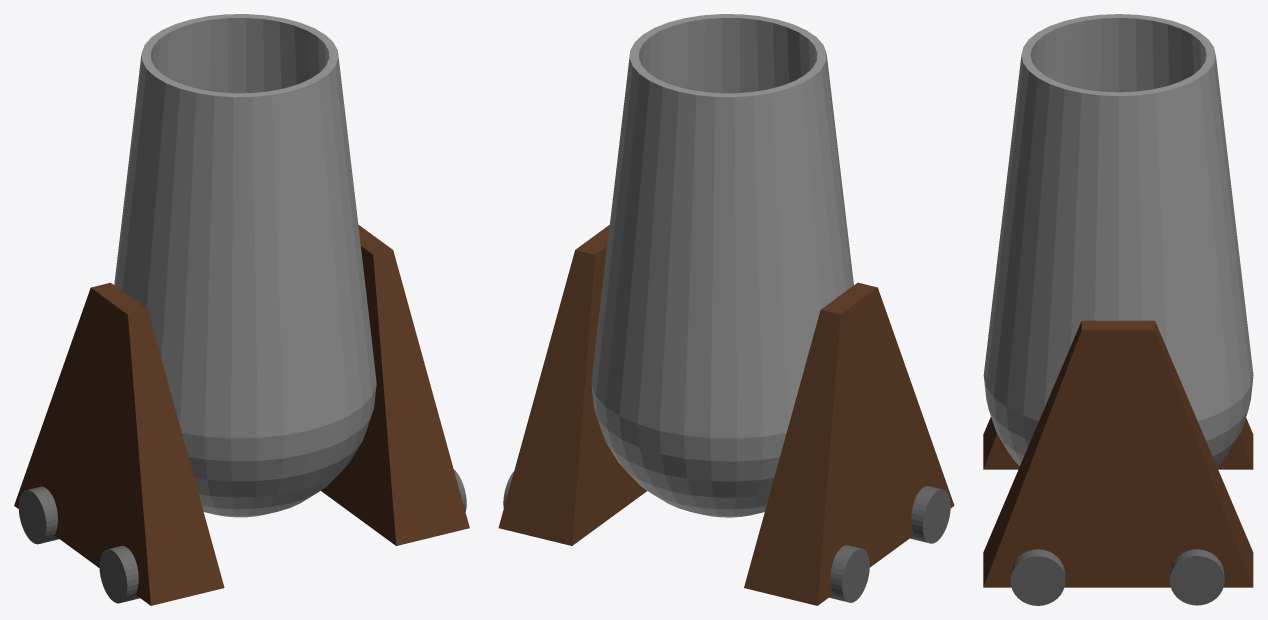
File: Mortaio.fbx
3 renders of one model, left to right at view 1: azimuth 30°, elevation 25°; view 2: azimuth 150°, elevation 25°; view 3: azimuth 270°, elevation 25°, orthographic.
Visible parts, largest first — view 1: Sfera, Cubo, Cubo.001, Cilindro, Cilindro.001; view 2: Sfera, Cubo, Cubo.001, Cilindro.001, Cilindro; view 3: Sfera, Cubo.001, Cilindro.003, Cilindro.002, Cubo.
Boxes of the visible parts, bbox=[...] form: Sfera: bbox=[114, 14, 376, 517]; Cubo: bbox=[14, 282, 224, 605]; Cubo.001: bbox=[321, 225, 469, 545]; Cilindro: bbox=[99, 546, 139, 603]; Cilindro.001: bbox=[18, 486, 59, 544]; Sfera: bbox=[591, 14, 853, 517]; Cubo: bbox=[744, 282, 954, 605]; Cubo.001: bbox=[498, 225, 646, 545]; Cilindro.001: bbox=[829, 545, 869, 602]; Cilindro: bbox=[910, 486, 950, 543]; Sfera: bbox=[983, 14, 1253, 466]; Cubo.001: bbox=[983, 320, 1253, 587]; Cilindro.003: bbox=[1010, 549, 1065, 605]; Cilindro.002: bbox=[1169, 549, 1224, 605]; Cubo: bbox=[983, 417, 1253, 469].
Bounding box in the file's own units: 286 × 383 × 200.
